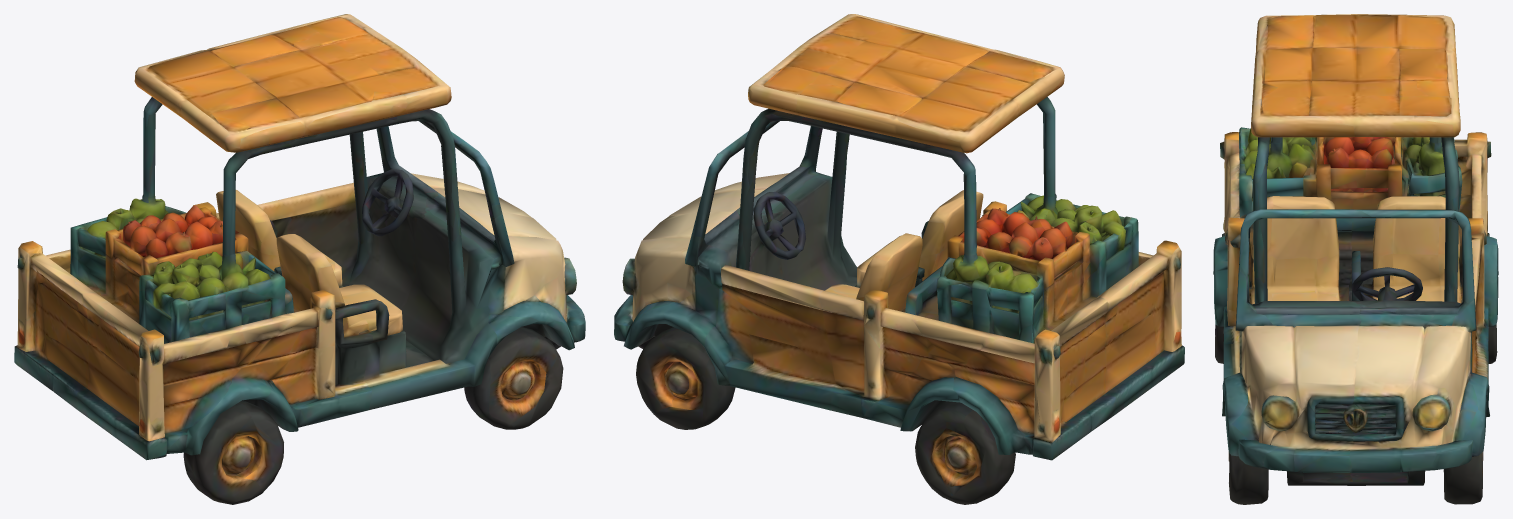
The model's file is mv02-market-cargo-cart.glb.
3 views of the same model, side by side, from view 1: azimuth 30°, elevation 25°; view 2: azimuth 150°, elevation 25°; view 3: azimuth 270°, elevation 25° (orthographic).
Visible parts, largest first — view 1: tripo_node_6d871063-b832-45c5-ba83-5ef963389f8f; view 2: tripo_node_6d871063-b832-45c5-ba83-5ef963389f8f; view 3: tripo_node_6d871063-b832-45c5-ba83-5ef963389f8f.
Part boxes in pixels (box(x1,y1,x2,y2)): tripo_node_6d871063-b832-45c5-ba83-5ef963389f8f: box(14, 14, 585, 504); tripo_node_6d871063-b832-45c5-ba83-5ef963389f8f: box(614, 14, 1184, 504); tripo_node_6d871063-b832-45c5-ba83-5ef963389f8f: box(1213, 14, 1498, 504).
Size of the model in its own units: 0.9993 by 0.7226 by 0.5278.
Materials: 1 (1 with a texture image).
